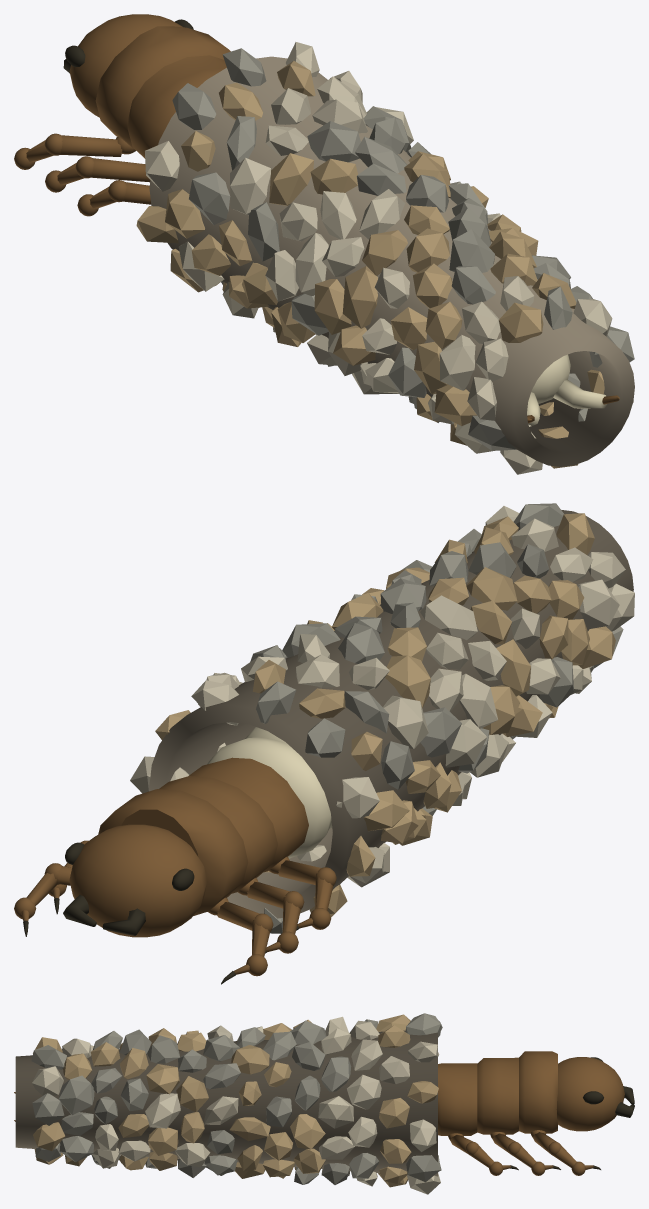
Rendered from CaddisflyLarva.fbx.
3 renders of one model, top to bottom at view 1: azimuth 30°, elevation 25°; view 2: azimuth 150°, elevation 25°; view 3: azimuth 270°, elevation 25°, orthographic. The views are drawn at different scales.
Parts seen in each view (by area): view 1: CaddisflyLarva_Ochre_grains, CaddisflyLarva_Pale_grains, CaddisflyLarva_Silk_case, CaddisflyLarva_Dark_grains, CaddisflyLarva_Head_and_sclerites, CaddisflyLarva_Soft_abdomen; view 2: CaddisflyLarva_Head_and_sclerites, CaddisflyLarva_Ochre_grains, CaddisflyLarva_Pale_grains, CaddisflyLarva_Silk_case, CaddisflyLarva_Dark_grains, CaddisflyLarva_Soft_abdomen, CaddisflyLarva_Mouth_eyes; view 3: CaddisflyLarva_Dark_grains, CaddisflyLarva_Ochre_grains, CaddisflyLarva_Silk_case, CaddisflyLarva_Head_and_sclerites, CaddisflyLarva_Pale_grains, CaddisflyLarva_Mouth_eyes.
Boxes of the visible parts, x1,y1,x2,y2 form: CaddisflyLarva_Ochre_grains: (136,61,633,468); CaddisflyLarva_Pale_grains: (145,42,612,474); CaddisflyLarva_Silk_case: (149,56,634,466); CaddisflyLarva_Dark_grains: (172,48,634,450); CaddisflyLarva_Head_and_sclerites: (14,14,619,423); CaddisflyLarva_Soft_abdomen: (527,354,607,425); CaddisflyLarva_Head_and_sclerites: (14,757,336,976); CaddisflyLarva_Ochre_grains: (155,513,615,917); CaddisflyLarva_Pale_grains: (130,506,634,887); CaddisflyLarva_Silk_case: (149,510,633,918); CaddisflyLarva_Dark_grains: (250,503,623,933); CaddisflyLarva_Soft_abdomen: (207,727,332,858); CaddisflyLarva_Mouth_eyes: (23,842,299,984); CaddisflyLarva_Dark_grains: (31,1013,442,1184); CaddisflyLarva_Ochre_grains: (33,1014,438,1187); CaddisflyLarva_Silk_case: (15,1030,437,1176); CaddisflyLarva_Head_and_sclerites: (14,1051,624,1175); CaddisflyLarva_Pale_grains: (32,1016,440,1194); CaddisflyLarva_Mouth_eyes: (510,1057,634,1170).
Size of the model in its own units: 0.3058 by 0.2905 by 1.
